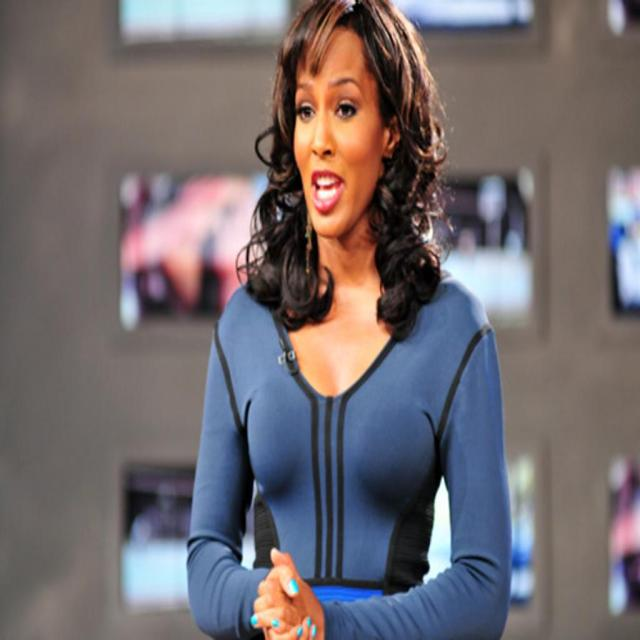Face: (296, 42, 384, 227)
